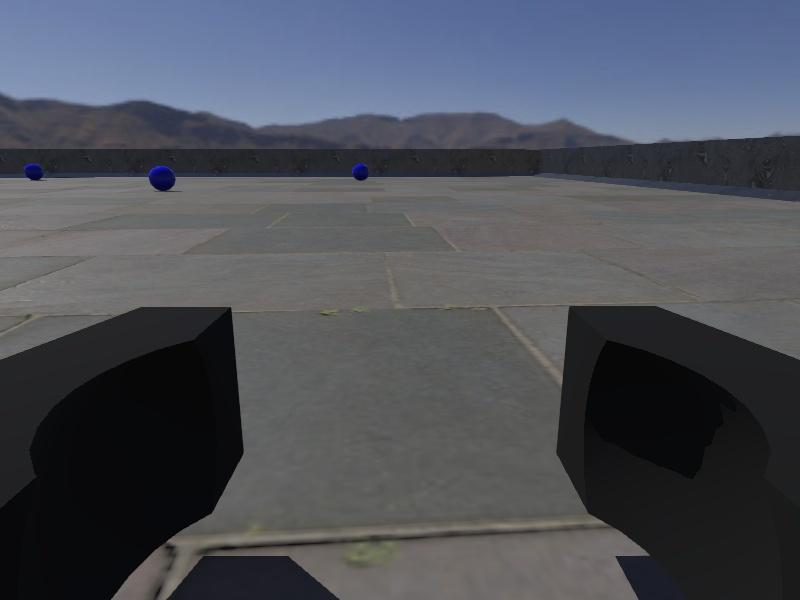blue ball: (148, 165, 176, 192), (24, 162, 43, 181), (351, 163, 370, 182)
